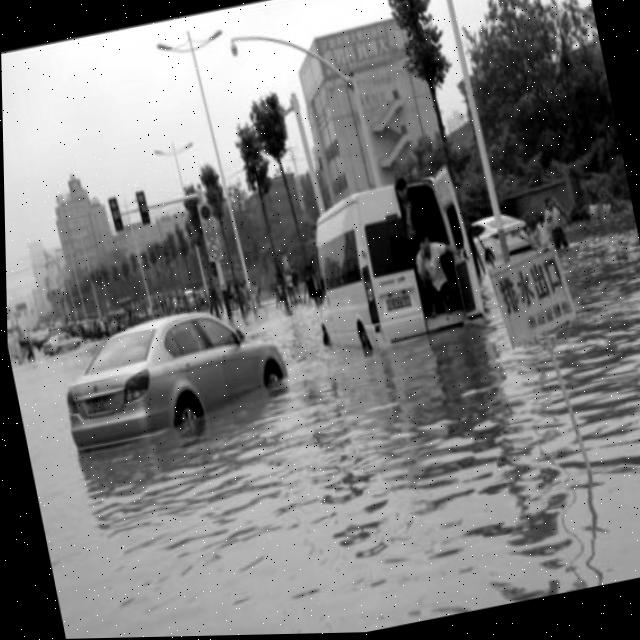civilian: (406, 223, 466, 318), (538, 190, 581, 259)
